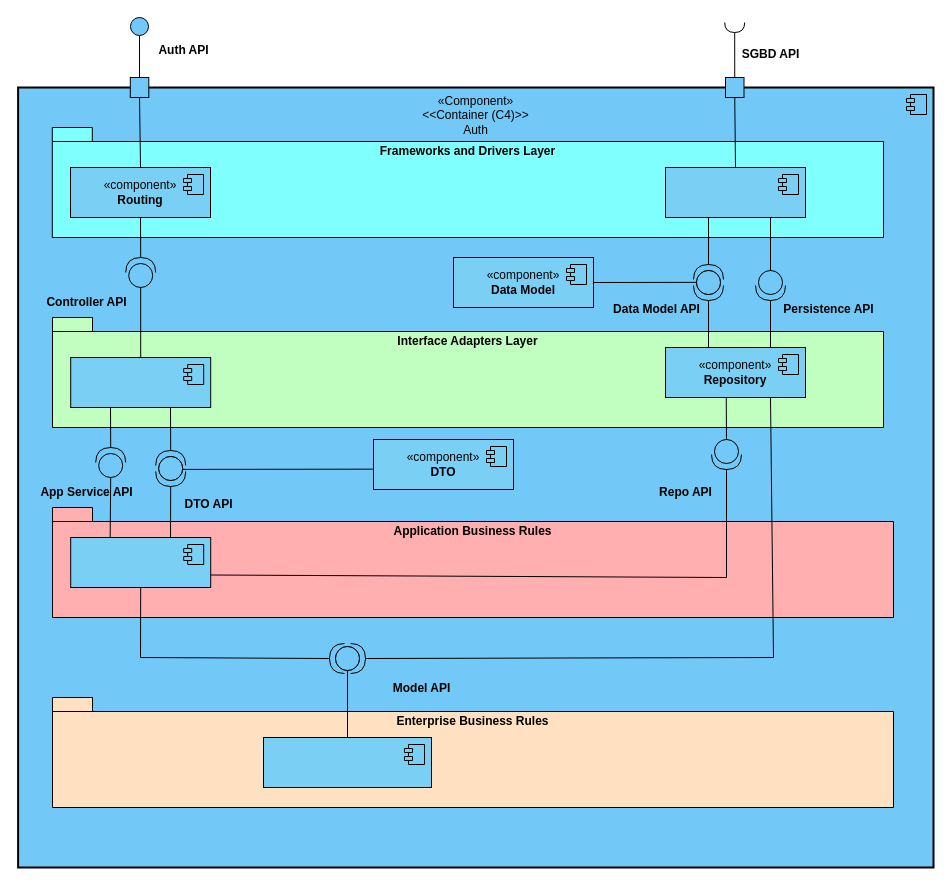
The diagram is 952 pixels wide and 886 high, and some of its shapes have lost their labels. The centre of each missing label's shape, as x and y in pixels:
"«component» Application Service" goes at [140,562].
"«component» Controller" goes at [140,382].
"«component» Domain Model (DDD)" goes at [347,762].
"«component» Persistence" goes at [735,192].
